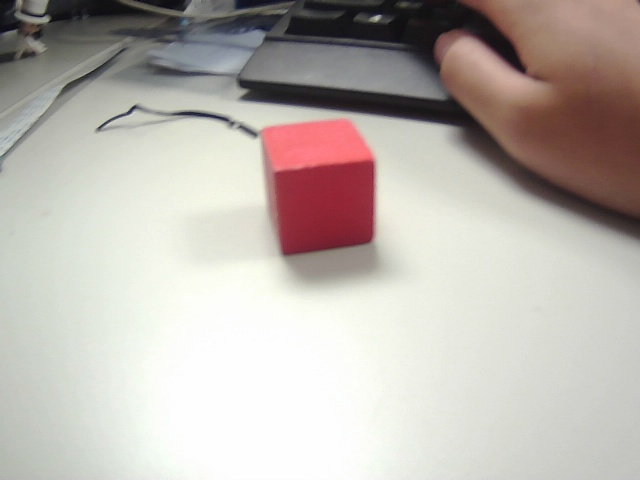redbox: (251, 113, 389, 262)
